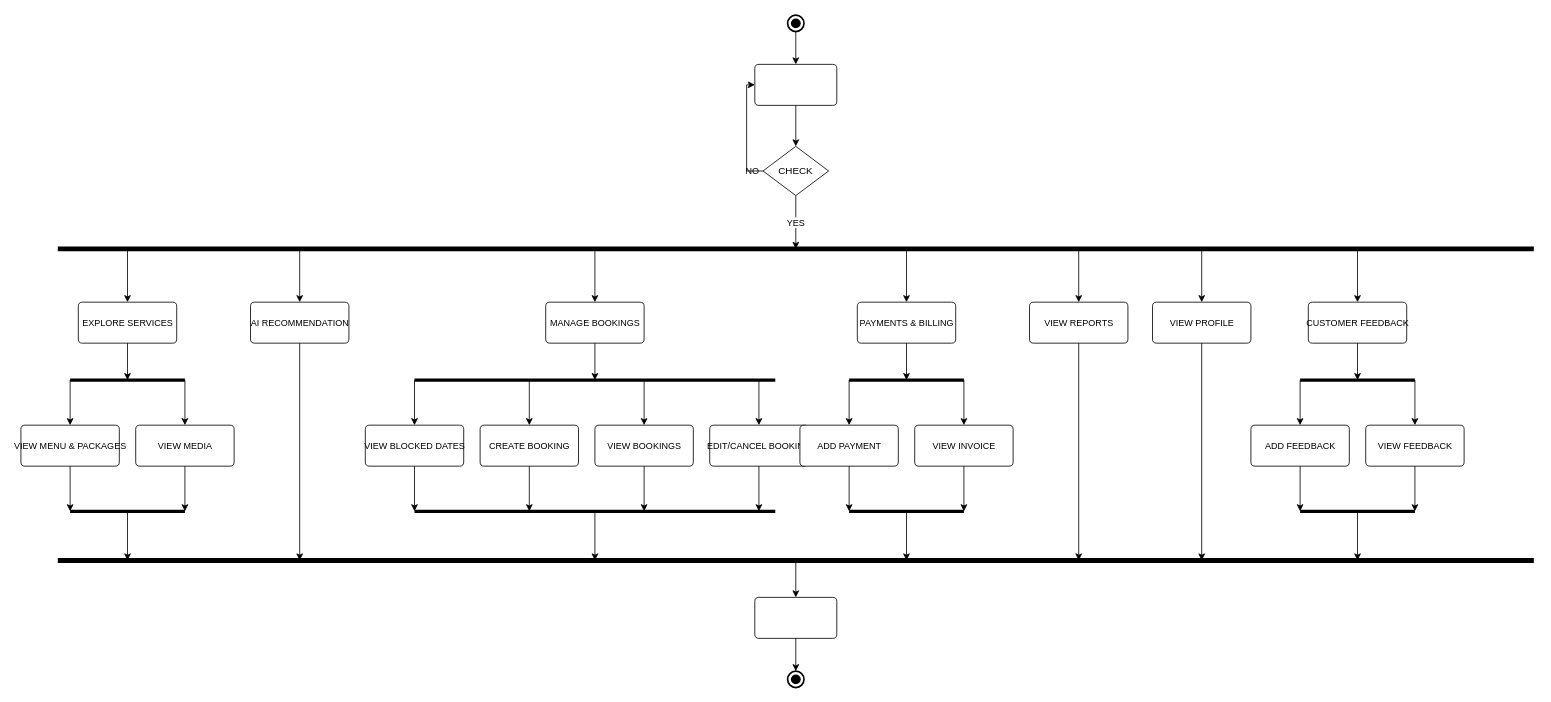
Some shapes in this 1551 by 702 pixel diagram are drawn without their labels. Each missing label, with the centre of its shape:
"LOGIN" goes at (x=795, y=84).
"LOGOUT" goes at (x=795, y=617).
